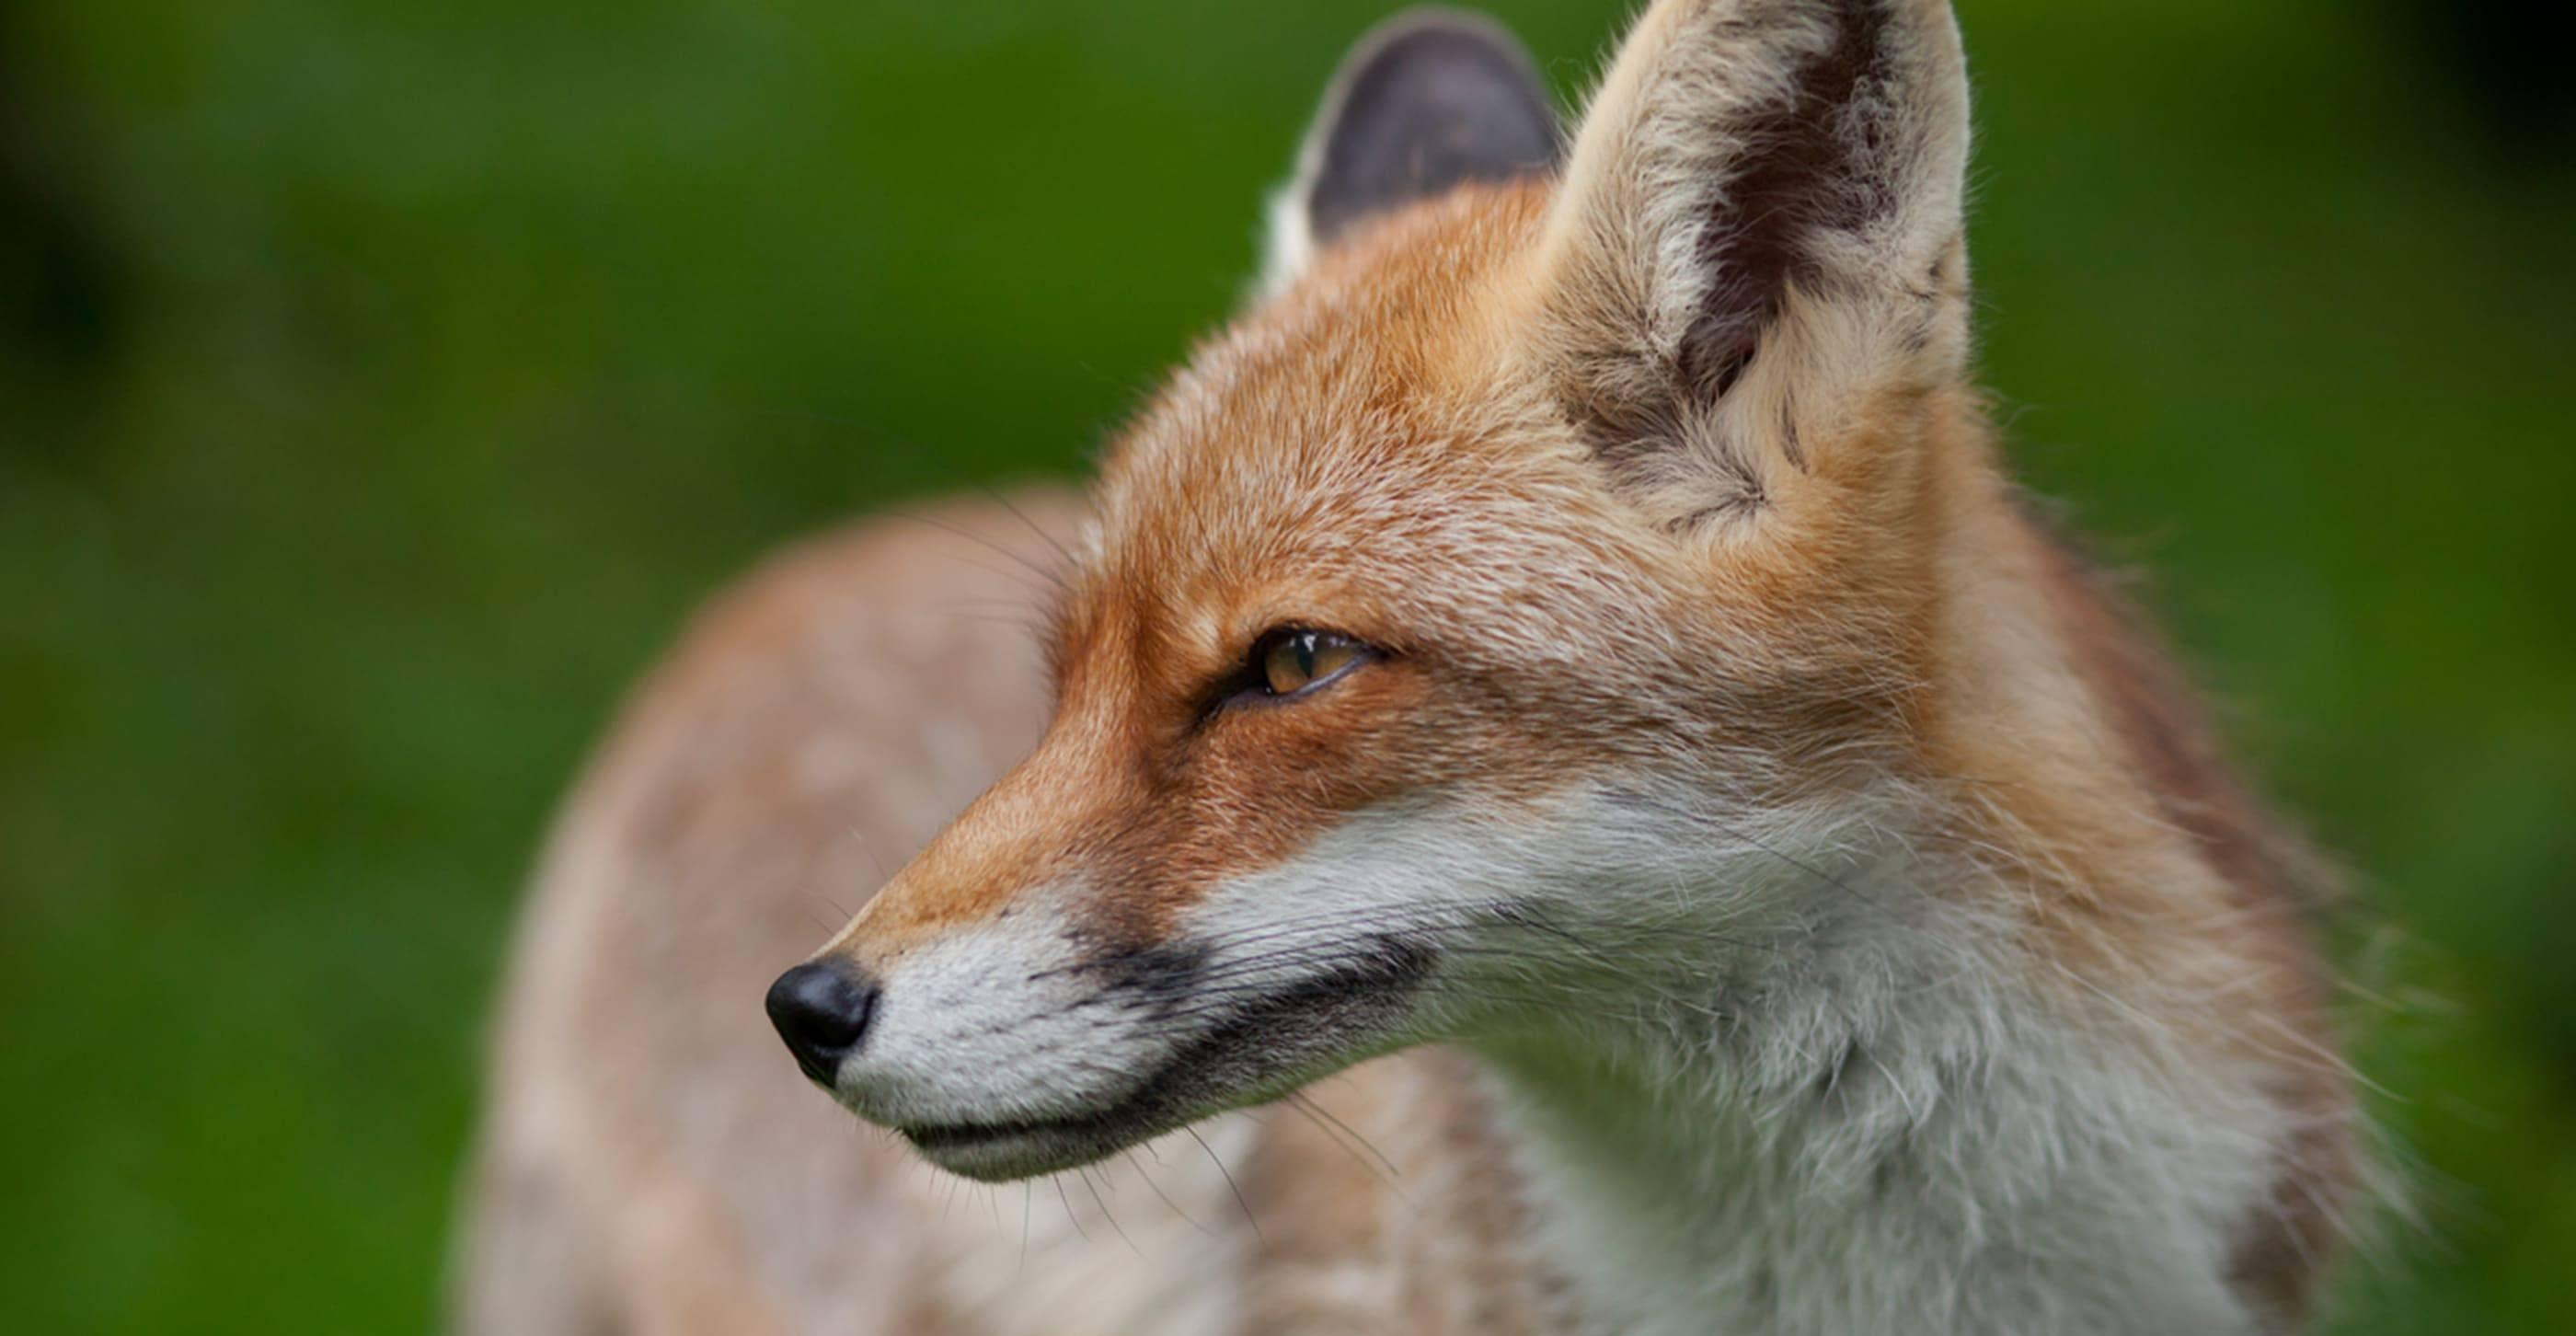fox: (157, 32, 2436, 1336)
